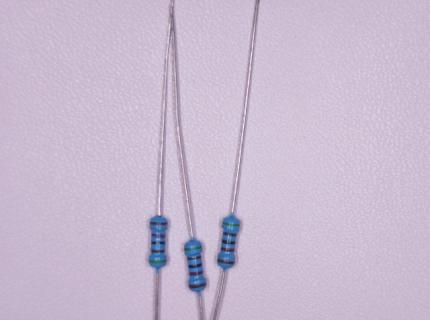Black band: (188, 262, 203, 269), (221, 239, 236, 245), (151, 240, 165, 246)
Brown band: (217, 258, 235, 265), (189, 282, 207, 289), (187, 255, 202, 261), (150, 221, 168, 226), (222, 232, 238, 237), (151, 249, 165, 254)
Green band: (222, 221, 240, 228), (184, 246, 203, 252), (149, 259, 167, 263)
Red band: (189, 270, 204, 277), (221, 246, 235, 253), (151, 233, 166, 238)
